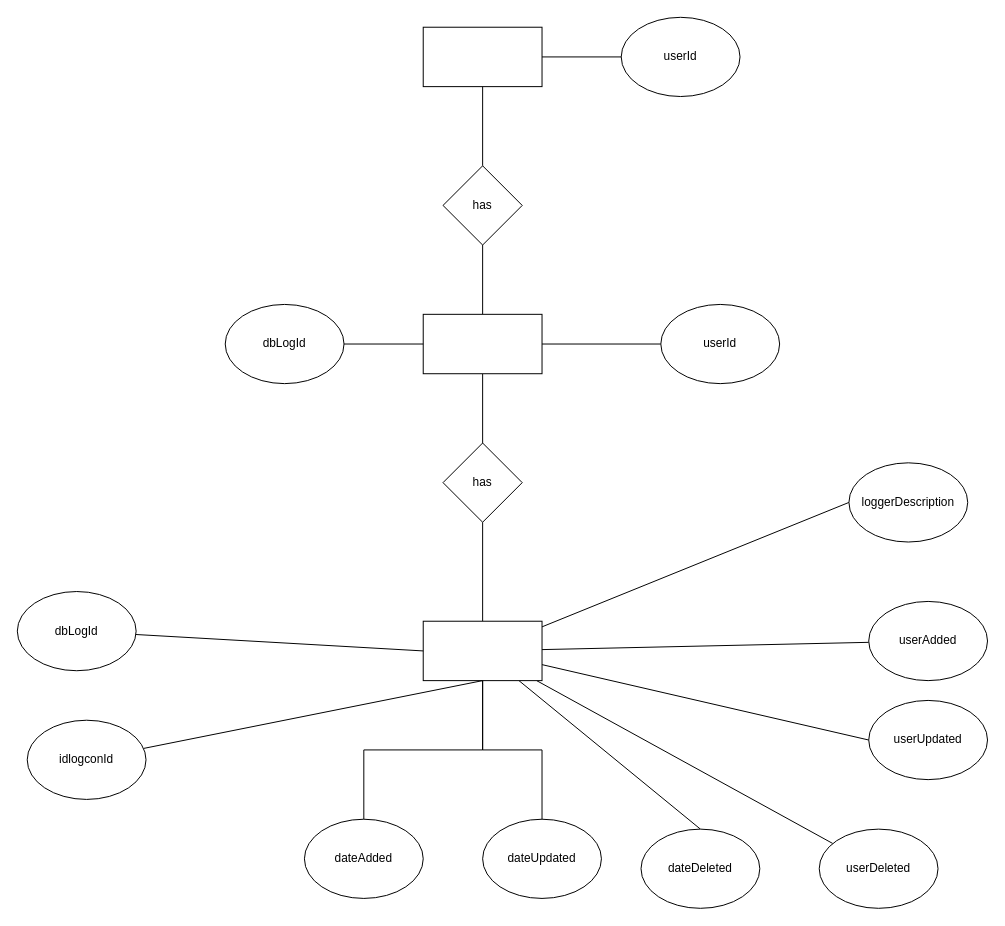
The diagram is 1005 pixels wide and 926 high, and some of its shapes have lost their labels. The centre of each missing label's shape, as x and y in pixels:
databaseLogger: pixel 482 343
loggerContent: pixel 482 650
profile: pixel 482 56
